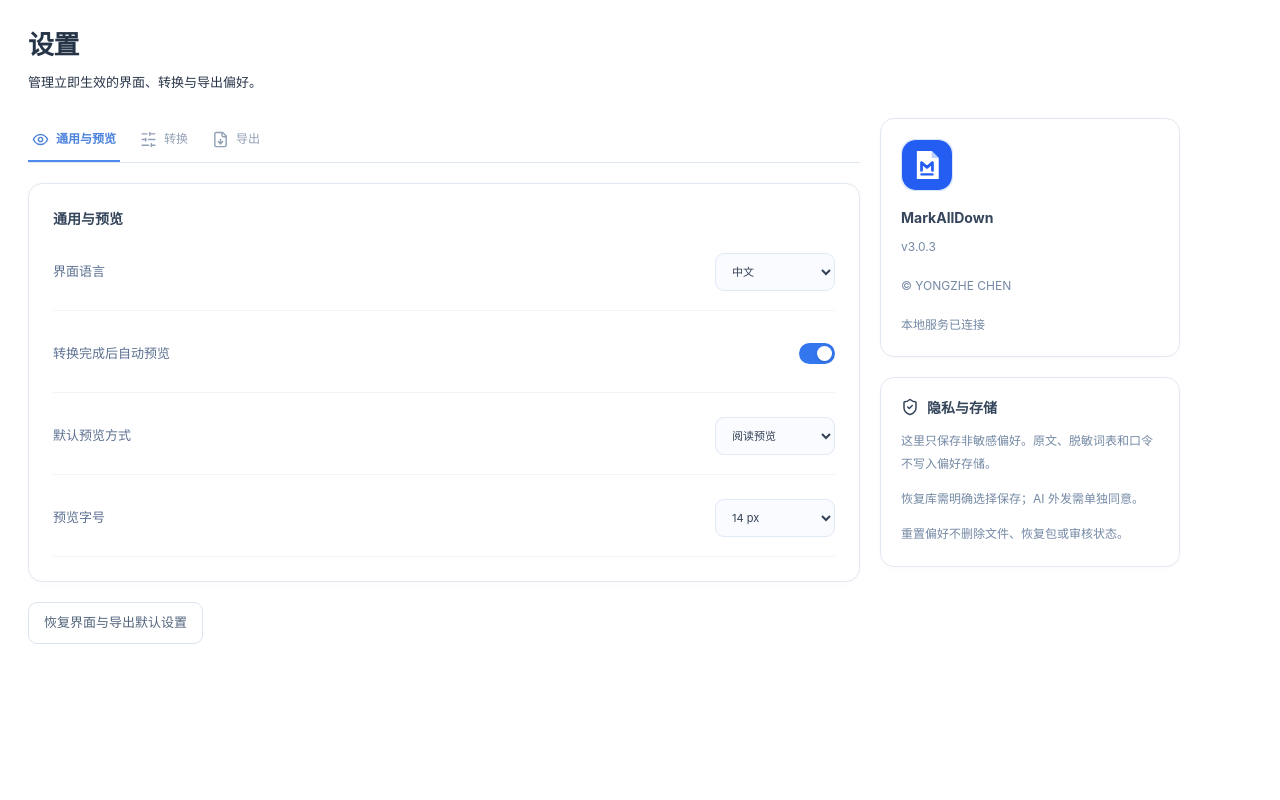
Test: settings tabs expose working controls only in the selected section
Expected: the dropdown labelled "界面语言" is shown, x1=715 y1=252 x2=835 y2=290
Expected: the dropdown labelled "默认格式" is not shown
Click the tab "导出" at (236, 140), box x1=208 y1=118 x2=264 y2=162
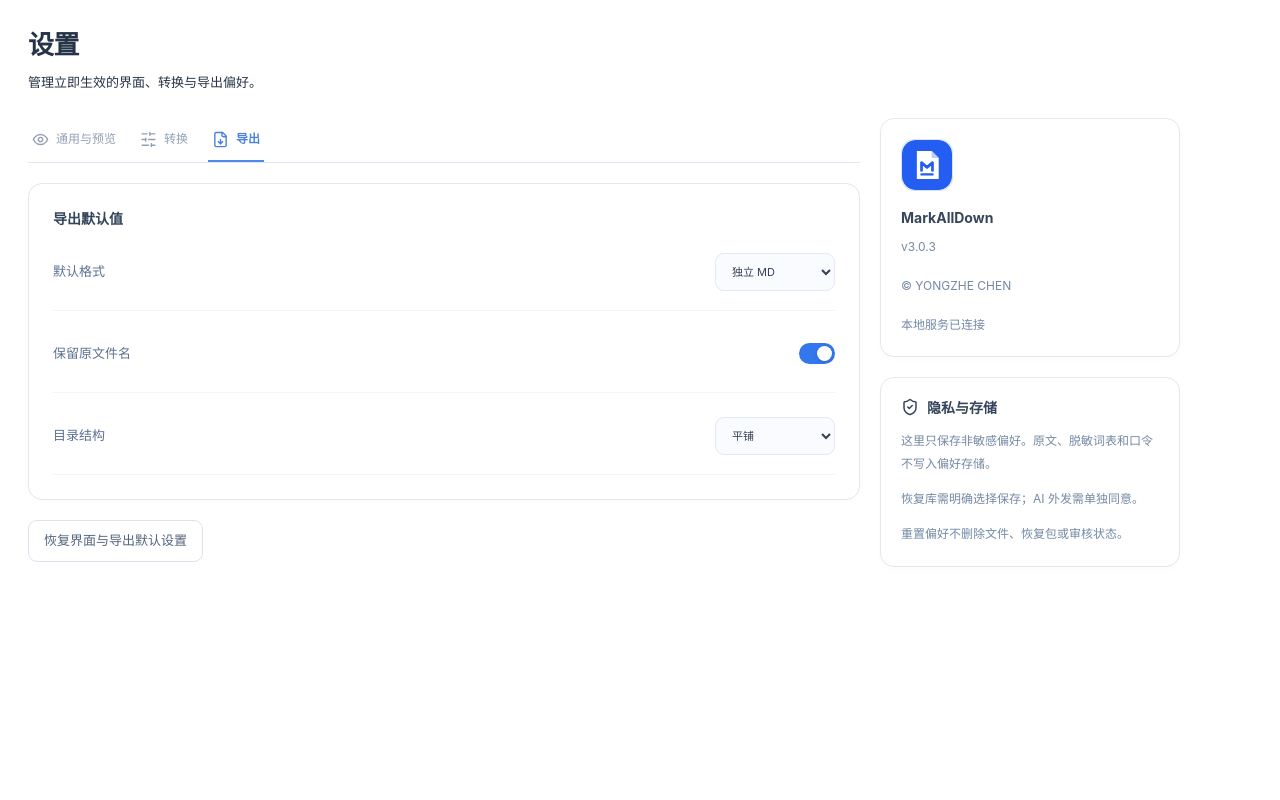
Expected: the dropdown labelled "默认格式" is shown, x1=715 y1=252 x2=835 y2=290
Result: the label "界面语言" is gone
